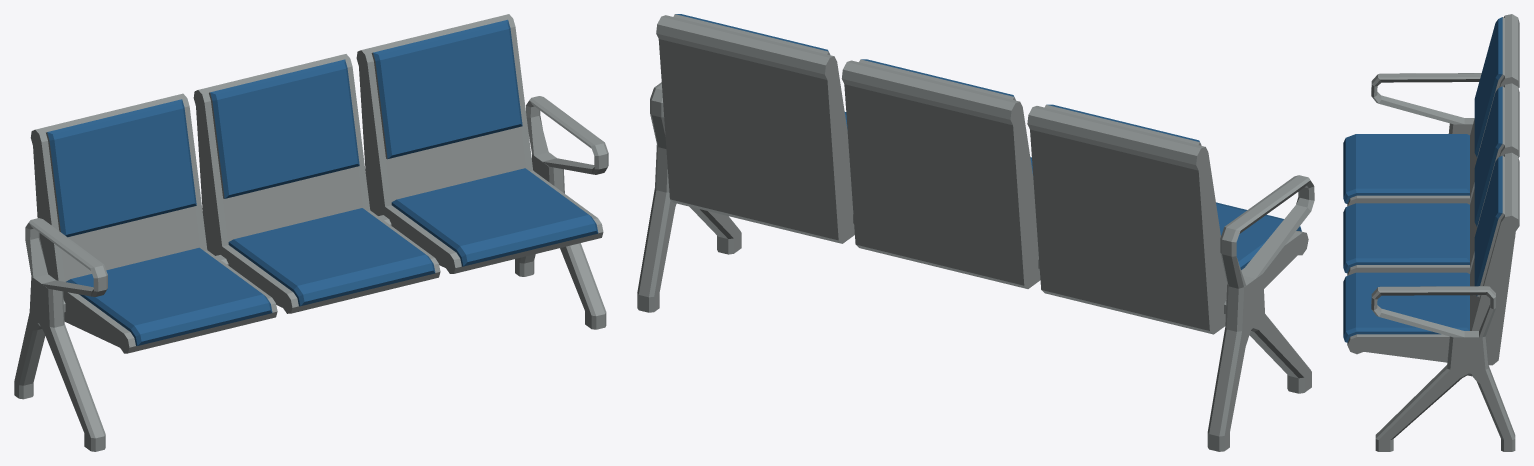
File: SM_Props_Interior_Generic_Reception_Chair_01.fbx
3 views of the same model, side by side, from view 1: azimuth 30°, elevation 25°; view 2: azimuth 150°, elevation 25°; view 3: azimuth 270°, elevation 25° (orthographic). The views are drawn at different scales.
Visible parts, largest first — view 1: SM_Props_Interior_Generic_Reception_Chair_01; view 2: SM_Props_Interior_Generic_Reception_Chair_01; view 3: SM_Props_Interior_Generic_Reception_Chair_01.
Part boxes in pixels (bbox=[...]): SM_Props_Interior_Generic_Reception_Chair_01: bbox=[14, 14, 608, 451]; SM_Props_Interior_Generic_Reception_Chair_01: bbox=[637, 14, 1314, 451]; SM_Props_Interior_Generic_Reception_Chair_01: bbox=[1343, 14, 1519, 451].
Size of the model in its own units: 174 by 84.09 by 59.2.
